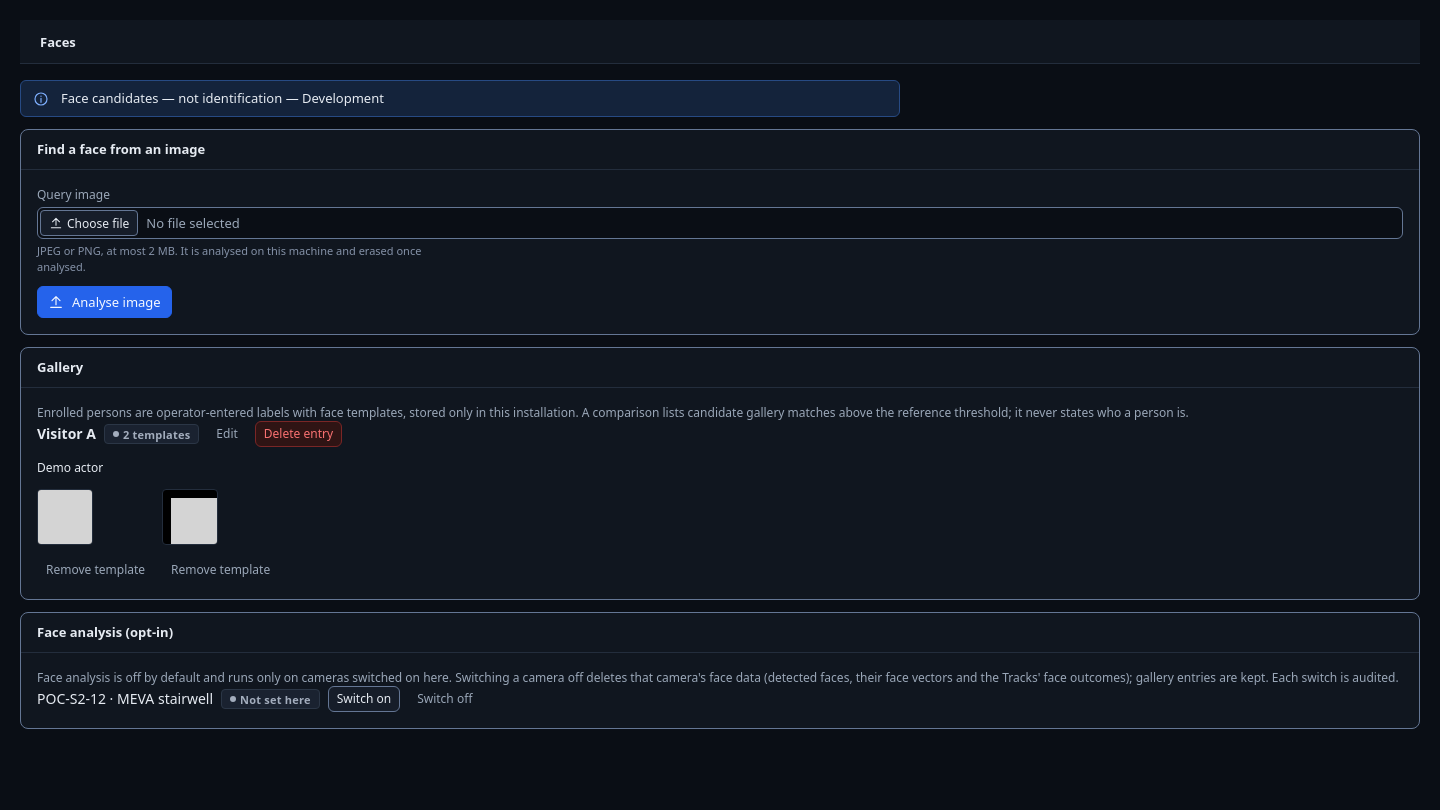
Test: PoC S6 Faces page › switches face analysis on and off per camera, each through the dialog
Expected: the text "off by default" is shown, x1=37 y1=669 x2=1399 y2=686
What coordinates should you click on to do the following:
click the button "Switch on"
I would click on:
 (364, 699)
Its box is x1=328 y1=686 x2=400 y2=712.
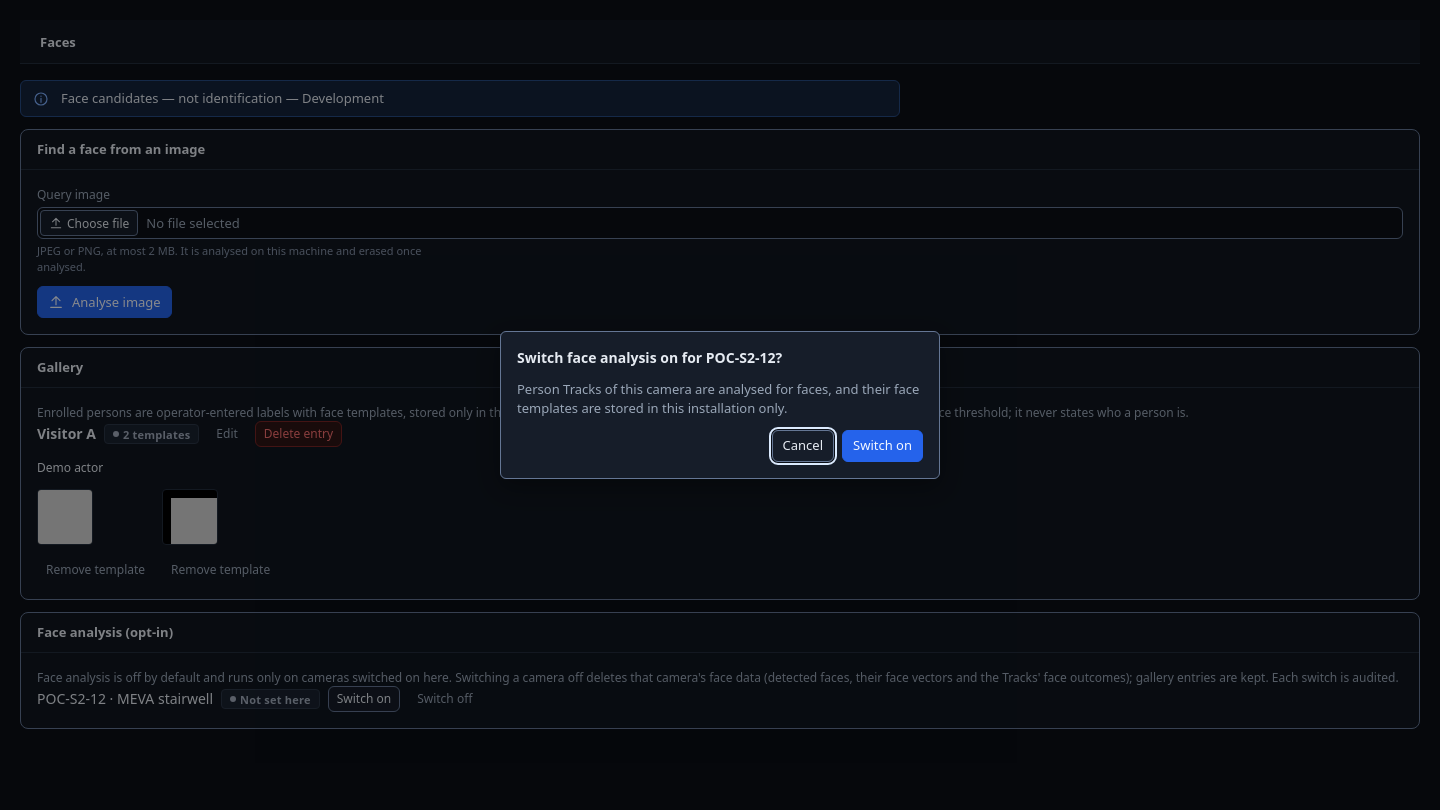
What coordinates should you click on to do the following:
click the button "Switch on"
I would click on:
 (882, 446)
Its box is x1=842 y1=430 x2=923 y2=462.
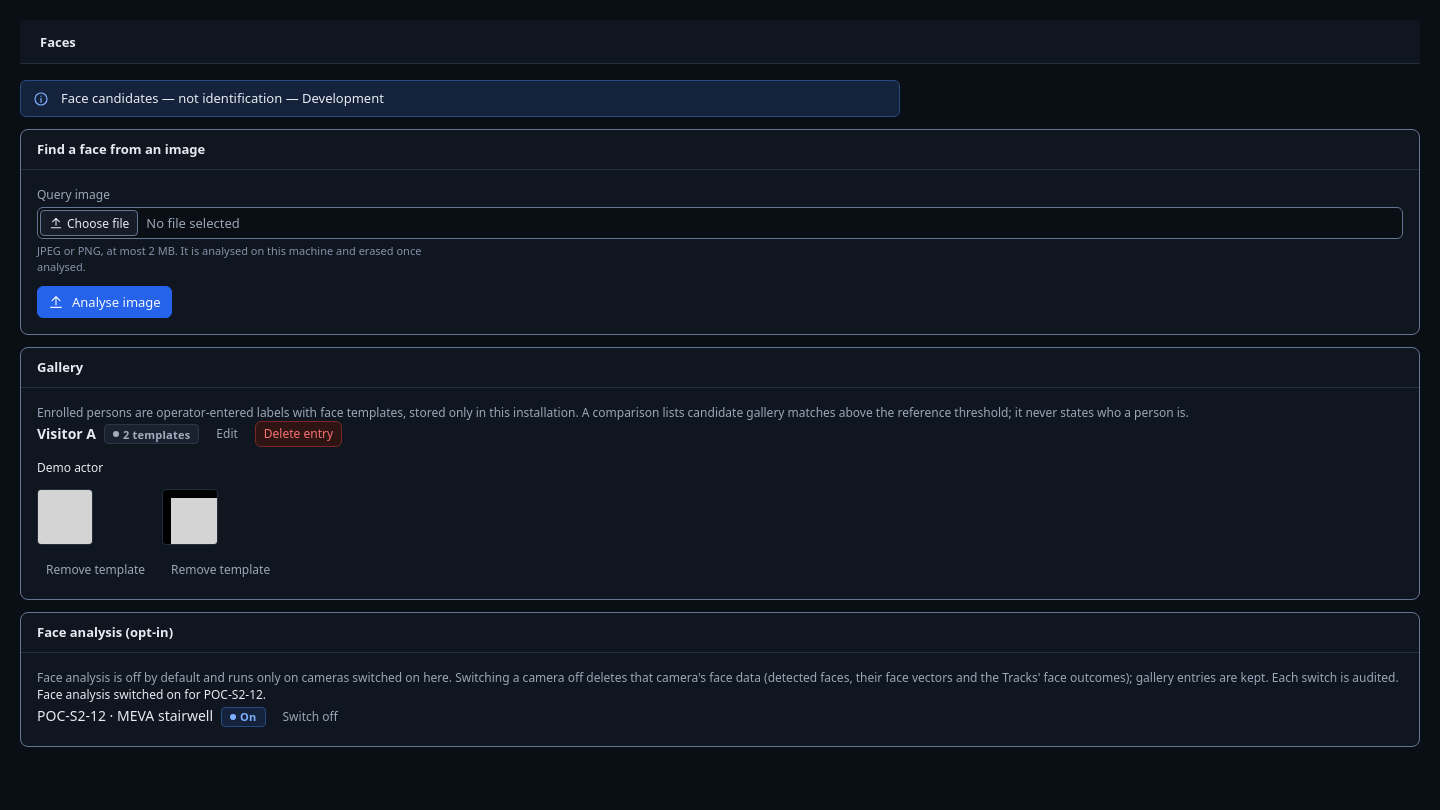
Expected: the text "Face analysis switched on for POC-S2-12." is shown, x1=37 y1=686 x2=266 y2=703
What coordinates should you click on to do the following:
click the button "Switch off"
I would click on:
 (310, 717)
Its box is x1=274 y1=704 x2=347 y2=730.
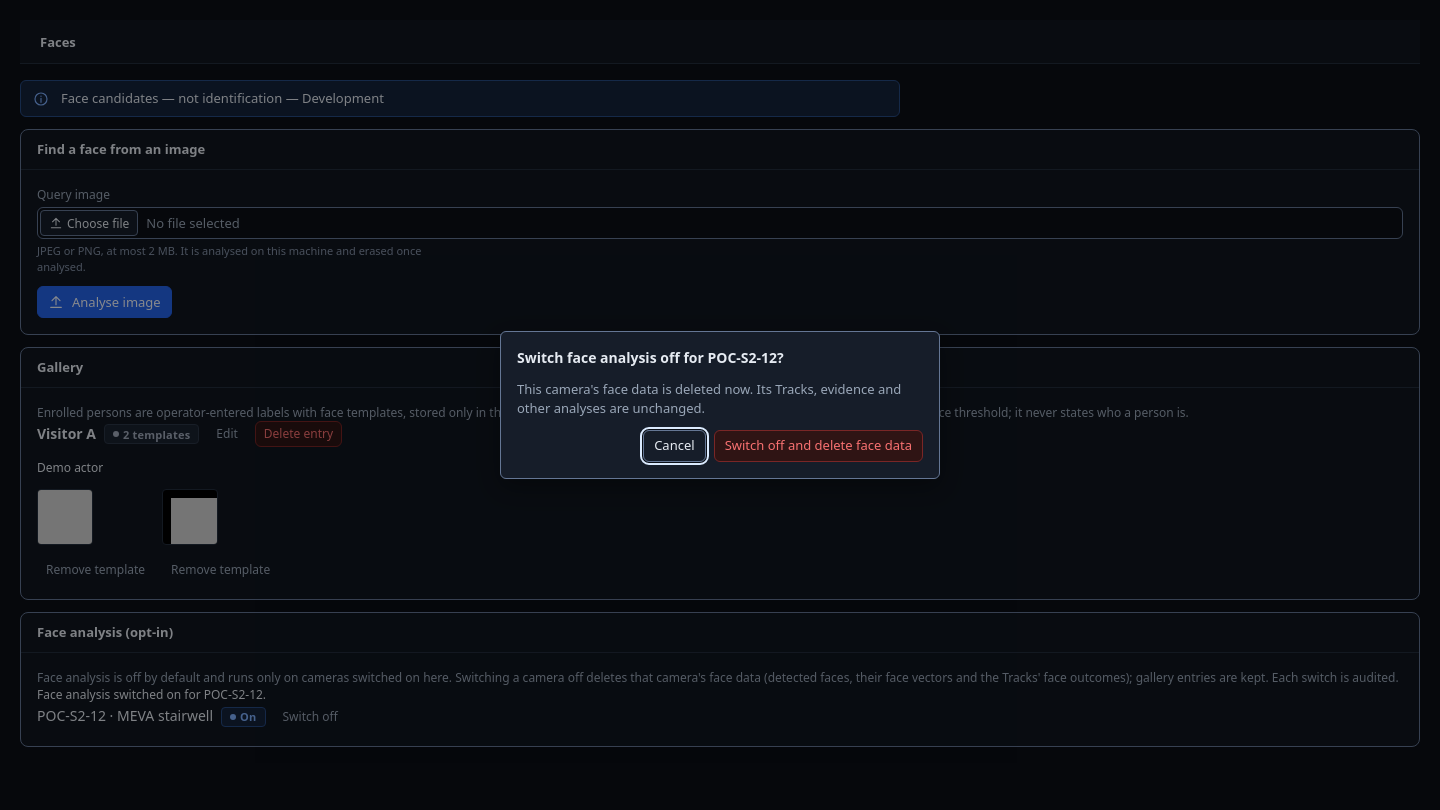
Expected: the dialog shows "This camera's face data is deleted now.", x1=517 y1=380 x2=901 y2=417
What coordinates should you click on to do the following:
click the button "Switch off and delete face data"
I would click on:
 (818, 446)
Its box is x1=714 y1=430 x2=923 y2=462.
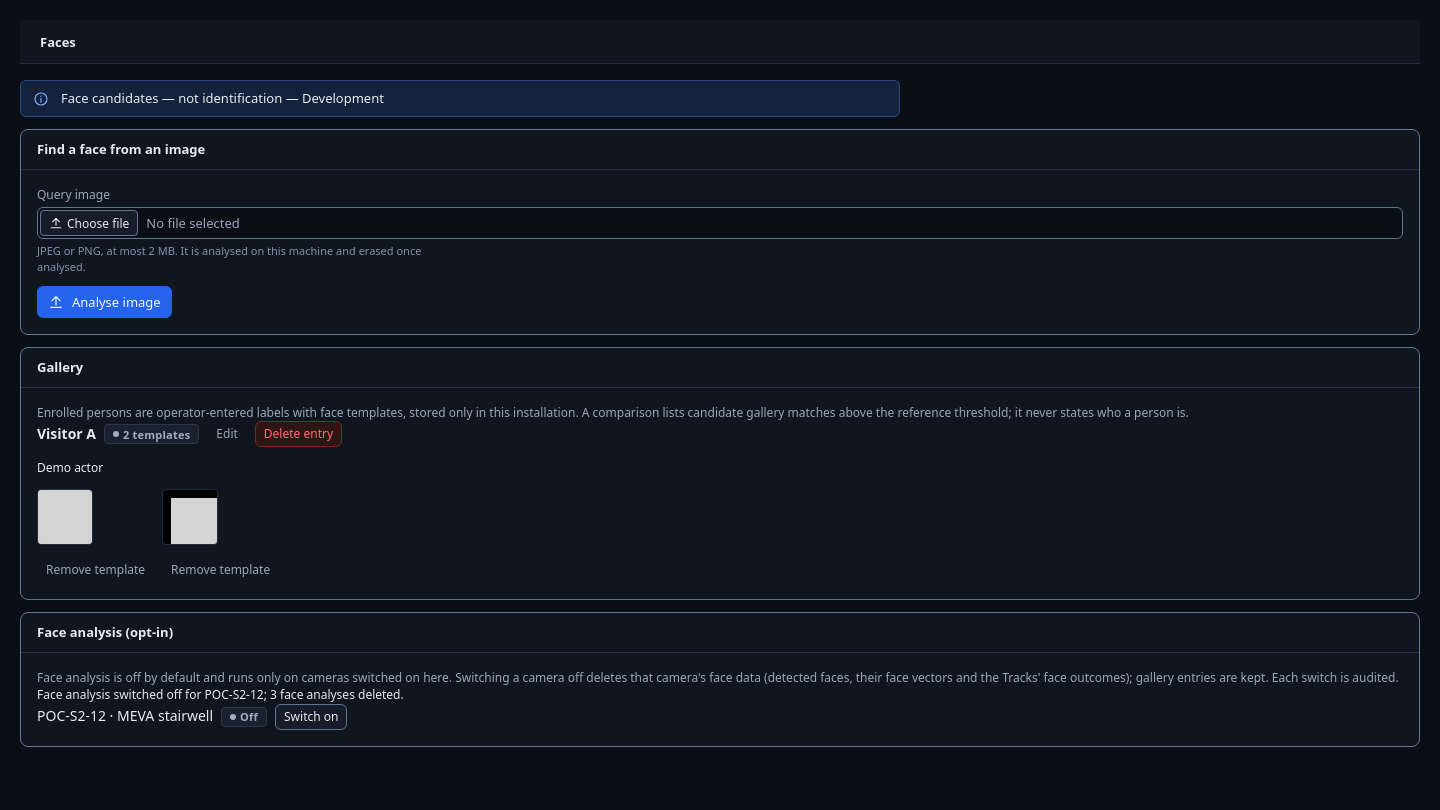
Expected: the text "Face analysis switched off for POC-S2-12; 3 face analyses deleted." is shown, x1=37 y1=686 x2=404 y2=703
